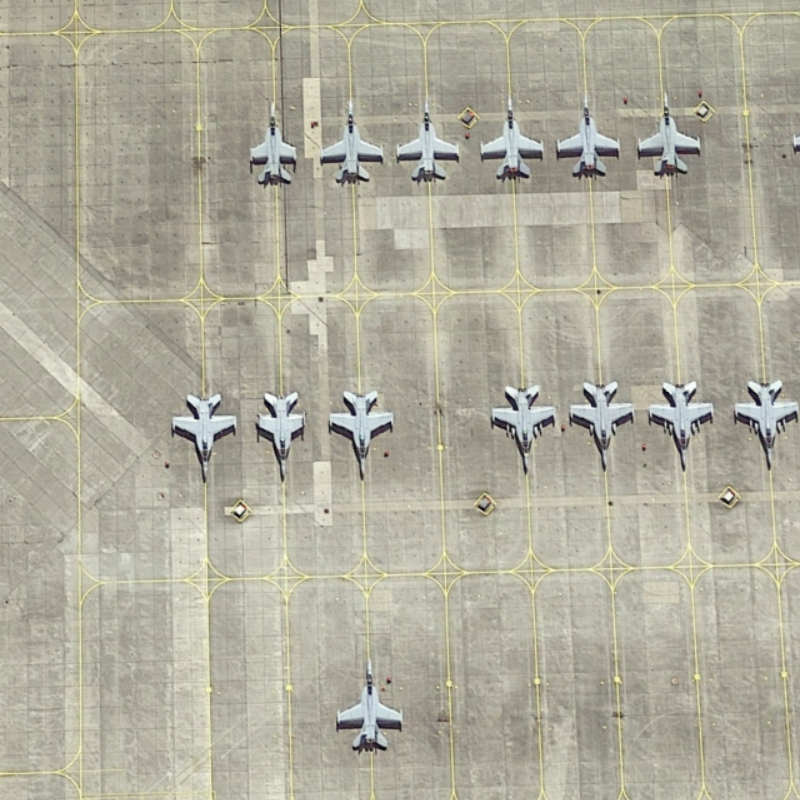A16: (556, 372, 643, 479), (328, 654, 411, 760), (322, 386, 406, 486), (638, 375, 720, 477), (482, 378, 562, 478), (165, 389, 244, 488), (725, 373, 800, 475), (392, 89, 465, 187), (474, 90, 548, 183), (316, 94, 387, 189), (249, 383, 313, 488), (635, 85, 705, 180), (554, 92, 627, 181), (241, 98, 304, 190)
